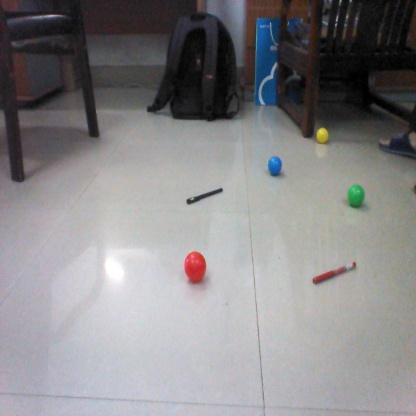ball: (183, 250, 208, 284), (343, 183, 367, 207), (265, 156, 282, 176), (314, 127, 329, 145)
pen: (311, 262, 358, 283), (186, 184, 224, 203)
